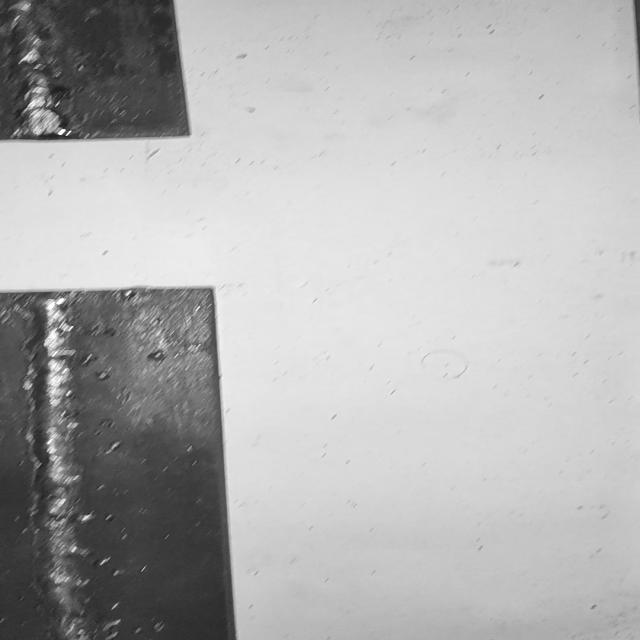Good Weld: (26, 293, 90, 640), (0, 0, 82, 139)
